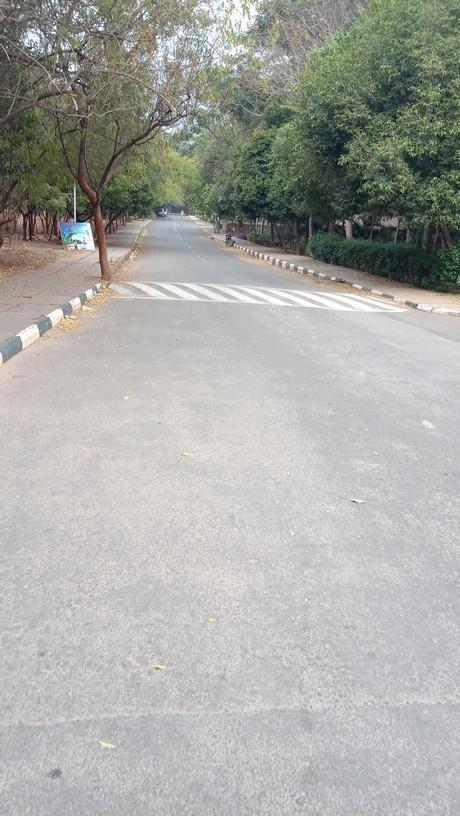speedbreaker: (106, 276, 415, 312)
